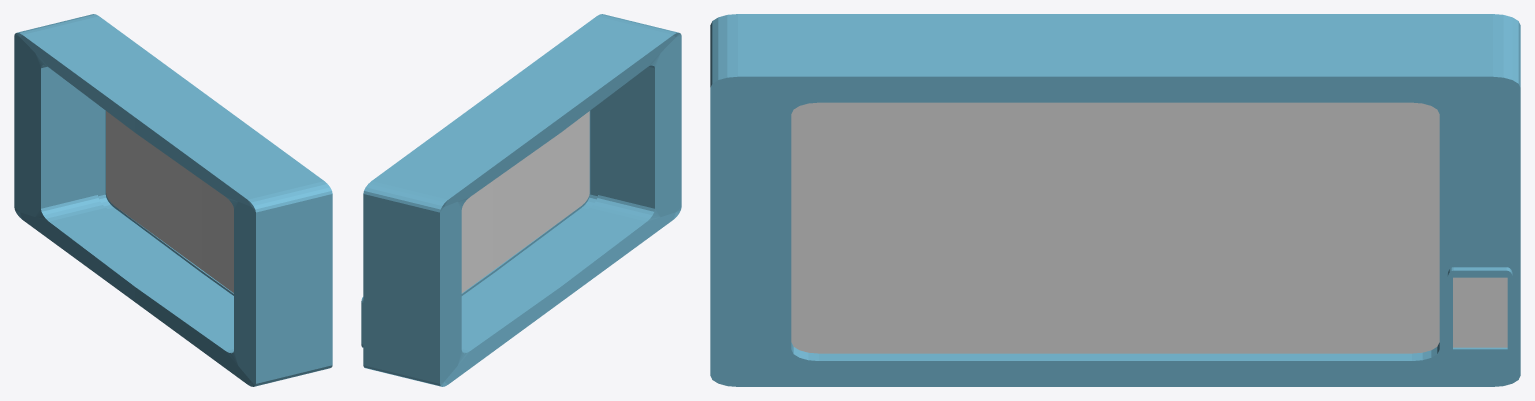
File: Casier.fbx
3 views of the same model, side by side, from view 1: azimuth 30°, elevation 25°; view 2: azimuth 150°, elevation 25°; view 3: azimuth 270°, elevation 25° (orthographic). The views are drawn at different scales.
Parts seen in each view (by area): view 1: Cube.001; view 2: Cube.001; view 3: Cube.001.
Boxes of the visible parts, x1,y1,x2,y2 form: Cube.001: [14, 14, 332, 386]; Cube.001: [361, 14, 681, 386]; Cube.001: [710, 14, 1520, 386].
Bounding box in the file's own units: 45.81 × 100 × 237.
